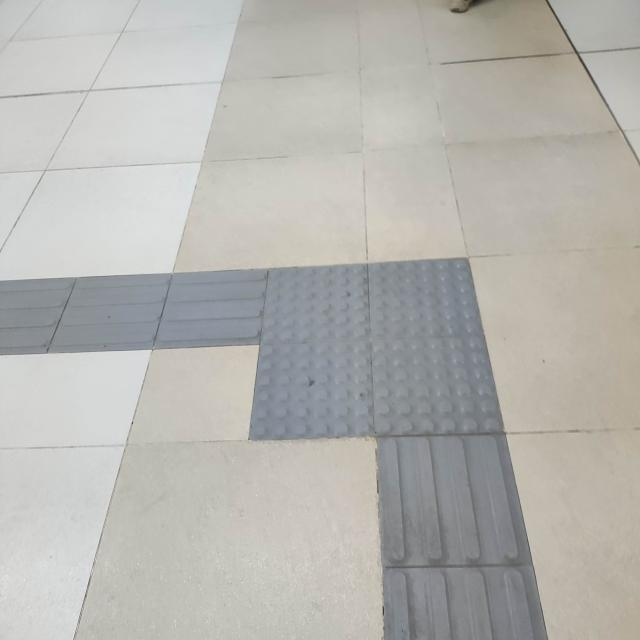kiri: (61, 218, 577, 508)
